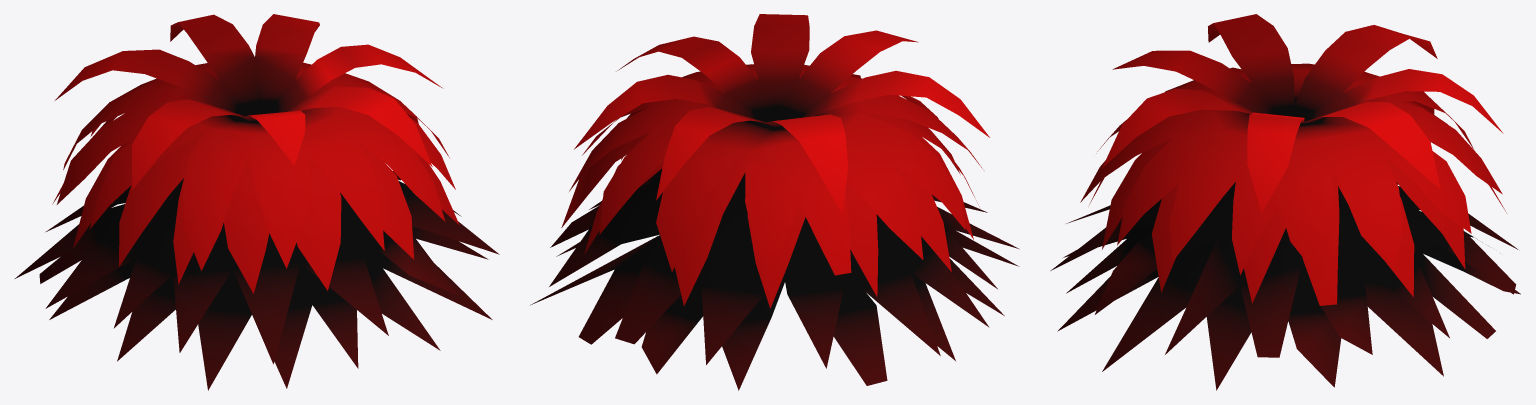
The model's file is G_NestFern_001_S1.fbx.
3 views of the same model, side by side, from view 1: azimuth 30°, elevation 25°; view 2: azimuth 150°, elevation 25°; view 3: azimuth 270°, elevation 25° (orthographic). The views are drawn at different scales.
Parts seen in each view (by area): view 1: G_NestFern_001_S1_P01_LOD0; view 2: G_NestFern_001_S1_P01_LOD0; view 3: G_NestFern_001_S1_P01_LOD0.
Part boxes in pixels (bbox=[...]): G_NestFern_001_S1_P01_LOD0: bbox=[15, 14, 499, 390]; G_NestFern_001_S1_P01_LOD0: bbox=[530, 14, 1019, 390]; G_NestFern_001_S1_P01_LOD0: bbox=[1050, 14, 1520, 390].
Size of what is drawn, in the model's own units: 130 by 66.94 by 128.
